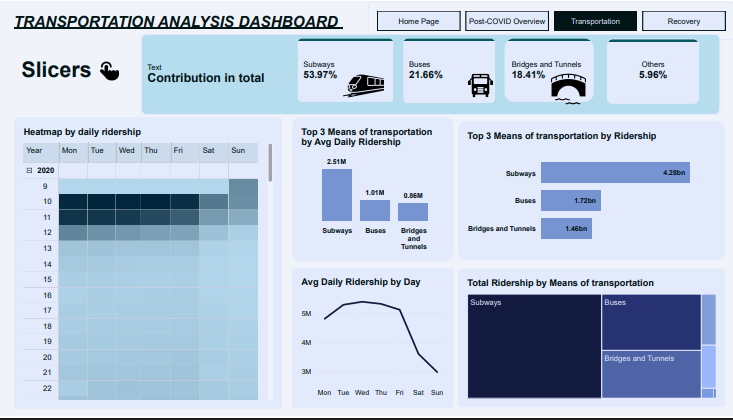

The page's visual inventory and layout, read from the dashboard file:
{"tool":"powerbi","page":{"name":"Transportation","canvas":[1280,720],"ordinal":2},"visuals":[{"type":"textbox","box":[26.2,18.8,691.2,47.5],"z":0},{"type":"cardVisual","fields":{"Data":["total.Mode Share %"]},"box":[520,64,168,110.9],"z":0,"group":"g3"},{"type":"cardVisual","fields":{"Data":["total.Mode Share %"]},"box":[704,64,160,112],"z":0,"group":"g2"},{"type":"cardVisual","fields":{"Data":["total.Mode Share %"]},"box":[880,64,156.8,110.9],"z":0,"group":"g1"},{"type":"image","box":[582.2,95.9,105.8,100.8],"z":1000,"group":"g3"},{"type":"image","box":[803.1,101,70.6,89],"z":1000,"group":"g2"},{"type":"image","box":[935.2,106,113.8,90.7],"z":1000,"group":"g1"},{"type":"clusteredBarChart","title":"Top 3  Means of transportation by Ridership","fields":{"Category":["MTA (2).Means of transportation"],"Y":["total.Total Ridership"]},"box":[800,208,464,240],"z":1000},{"type":"columnChart","title":"Top 3  Means of transportation by Avg Daily Ridership","fields":{"Category":["MTA (2).Means of transportation"],"Y":["total.Avg Daily Ridership"]},"box":[510.7,201,280.3,249.6],"z":2000},{"type":"pivotTable","title":"Heatmap by daily ridership","fields":{"Values":["Sum(MTA (2).Total Estimated)"],"Columns":["Calendar.DayN"],"Rows":["Calendar.Year Hierarchy.Year","Calendar.Year Hierarchy.WeekNum"]},"box":[26.9,201,464.6,505.6],"z":3000},{"type":"pageNavigator","box":[643.1,0,637.3,65.9],"z":4000},{"type":"lineChart","fields":{"Y":["total.Avg Daily Ridership"],"Category":["Calendar.DayN"]},"box":[510.7,463.4,280.3,243.2],"z":5000},{"type":"textbox","box":[39,97.1,131.8,46.8],"z":9000},{"type":"image","box":[153.8,87.1,76.5,66.6],"z":10000},{"type":"cardVisual","fields":{"Data":["total.Text"]},"box":[247,56.3,1008.6,139.5],"z":11000},{"type":"cardVisual","fields":{"Data":["total.Others"]},"box":[1058.6,64,160,112.6],"z":12000},{"type":"group","id":"g1","title":"Group 1","box":[880,64,176,128],"z":13000},{"type":"group","id":"g2","title":"Group 6","box":[704,64,176,128],"z":14000},{"type":"group","id":"g3","title":"Group 7","box":[520,64,168,128],"z":15000},{"type":"treemap","fields":{"Group":["MTA (2).Means of transportation"],"Values":["total.Total Ridership"]},"box":[800,464,464,240],"z":17000}]}

Visuals, with their boxes in screenshot pixels (x1, y1, x2, y2), scaled from the page's 1280x720 canvas onto the 733x420 screenshot:
textbox: region(15, 11, 411, 39)
cardVisual - total.Mode Share %: region(298, 37, 394, 102)
cardVisual - total.Mode Share %: region(403, 37, 495, 103)
cardVisual - total.Mode Share %: region(504, 37, 594, 102)
image: region(333, 56, 394, 115)
image: region(460, 59, 500, 111)
image: region(536, 62, 601, 115)
"Top 3  Means of transportation by Ridership" clusteredBarChart: region(458, 121, 724, 261)
"Top 3  Means of transportation by Avg Daily Ridership" columnChart: region(292, 117, 453, 263)
"Heatmap by daily ridership" pivotTable: region(15, 117, 281, 412)
pageNavigator: region(368, 0, 732, 38)
lineChart - total.Avg Daily Ridership x Calendar.DayN: region(292, 270, 453, 412)
textbox: region(22, 57, 98, 84)
image: region(88, 51, 132, 90)
cardVisual - total.Text: region(141, 33, 719, 114)
cardVisual - total.Others: region(606, 37, 698, 103)
"Group 1" group: region(504, 37, 605, 112)
"Group 6" group: region(403, 37, 504, 112)
"Group 7" group: region(298, 37, 394, 112)
treemap - MTA (2).Means of transportation x total.Total Ridership: region(458, 271, 724, 411)
